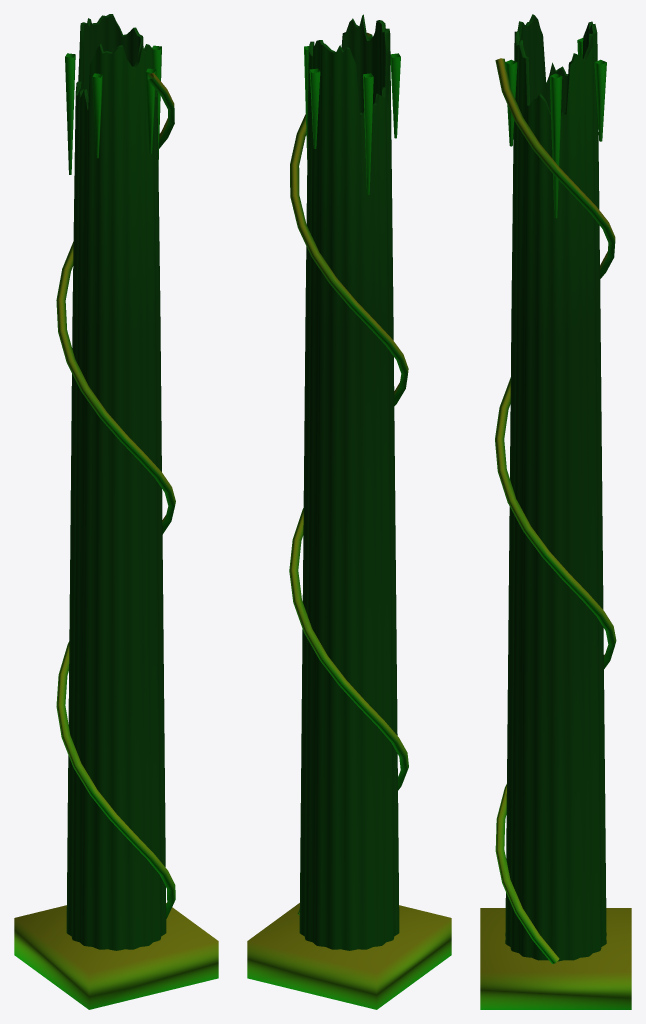
The model's file is held_pillar.glb.
3 renders of one model, left to right at view 1: azimuth 30°, elevation 25°; view 2: azimuth 150°, elevation 25°; view 3: azimuth 270°, elevation 25°, orthographic.
Parts seen in each view (by area): view 1: held_pillar; view 2: held_pillar; view 3: held_pillar.
Part boxes in pixels (x1,y1,x2,y2): held_pillar: [14, 14, 218, 1009]; held_pillar: [247, 14, 451, 1009]; held_pillar: [480, 14, 631, 1009].
Size of what is drawn, in the model's own units: 0.9662 by 6.7 by 0.9662.
